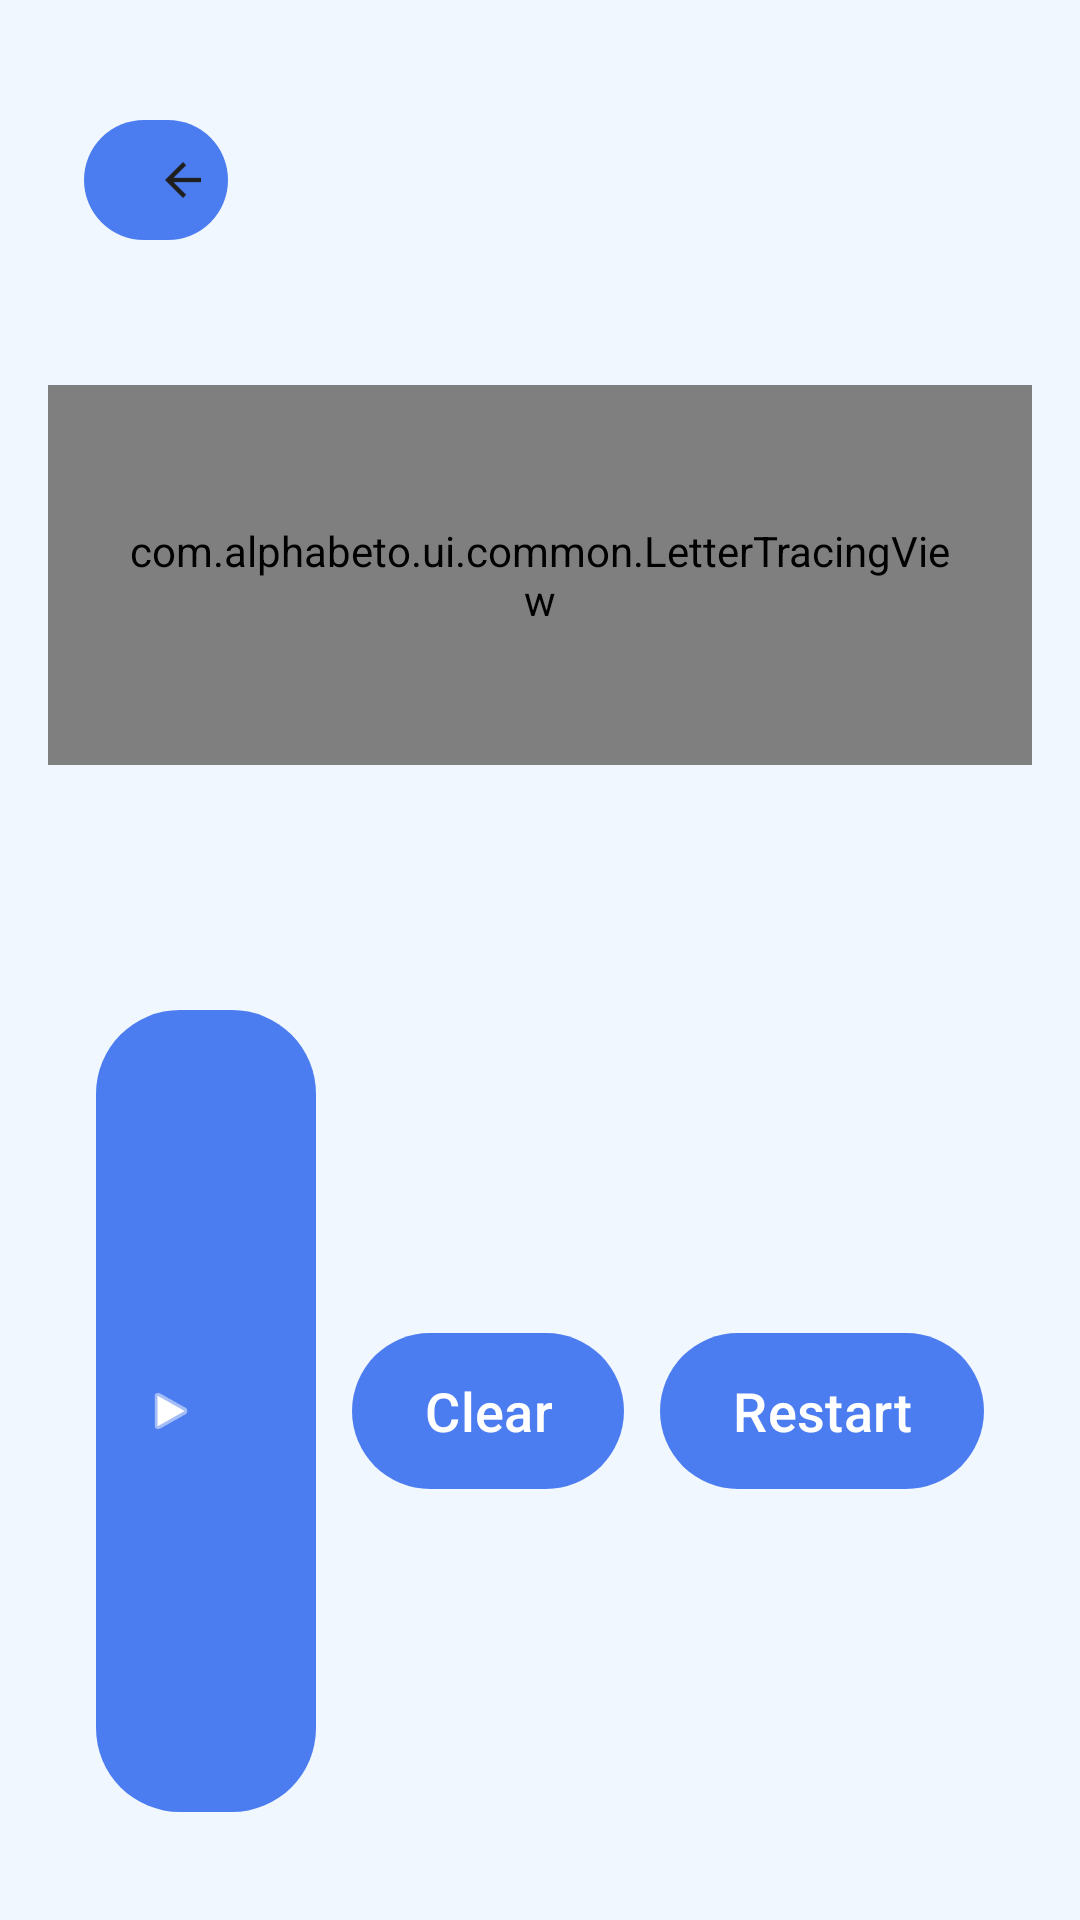

Named icons in this screenshot (1080*1920) and their centers, point (x, y):
Back: point (156, 180)
